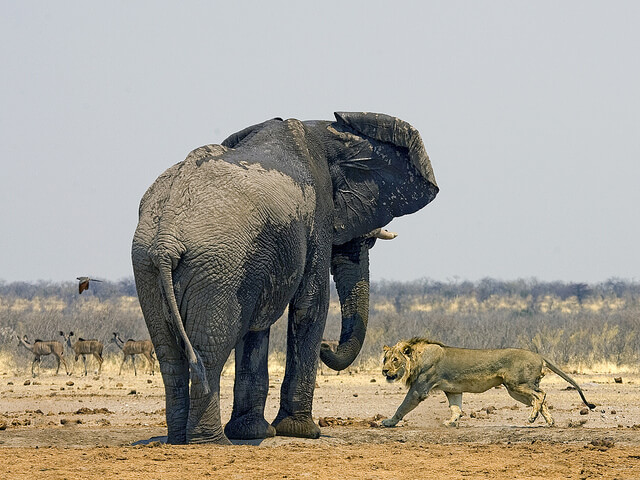elephant: (95, 101, 440, 451)
